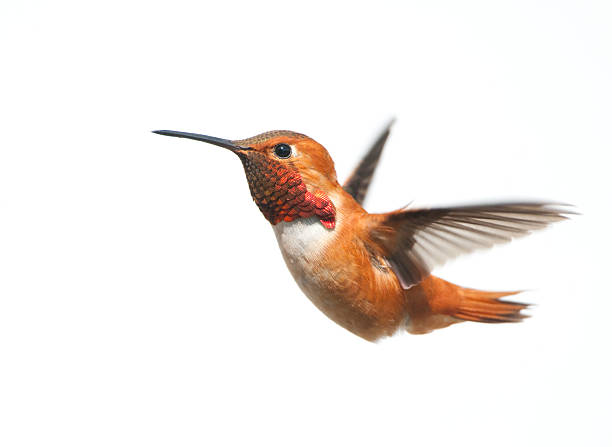Bird: (144, 112, 584, 343)
